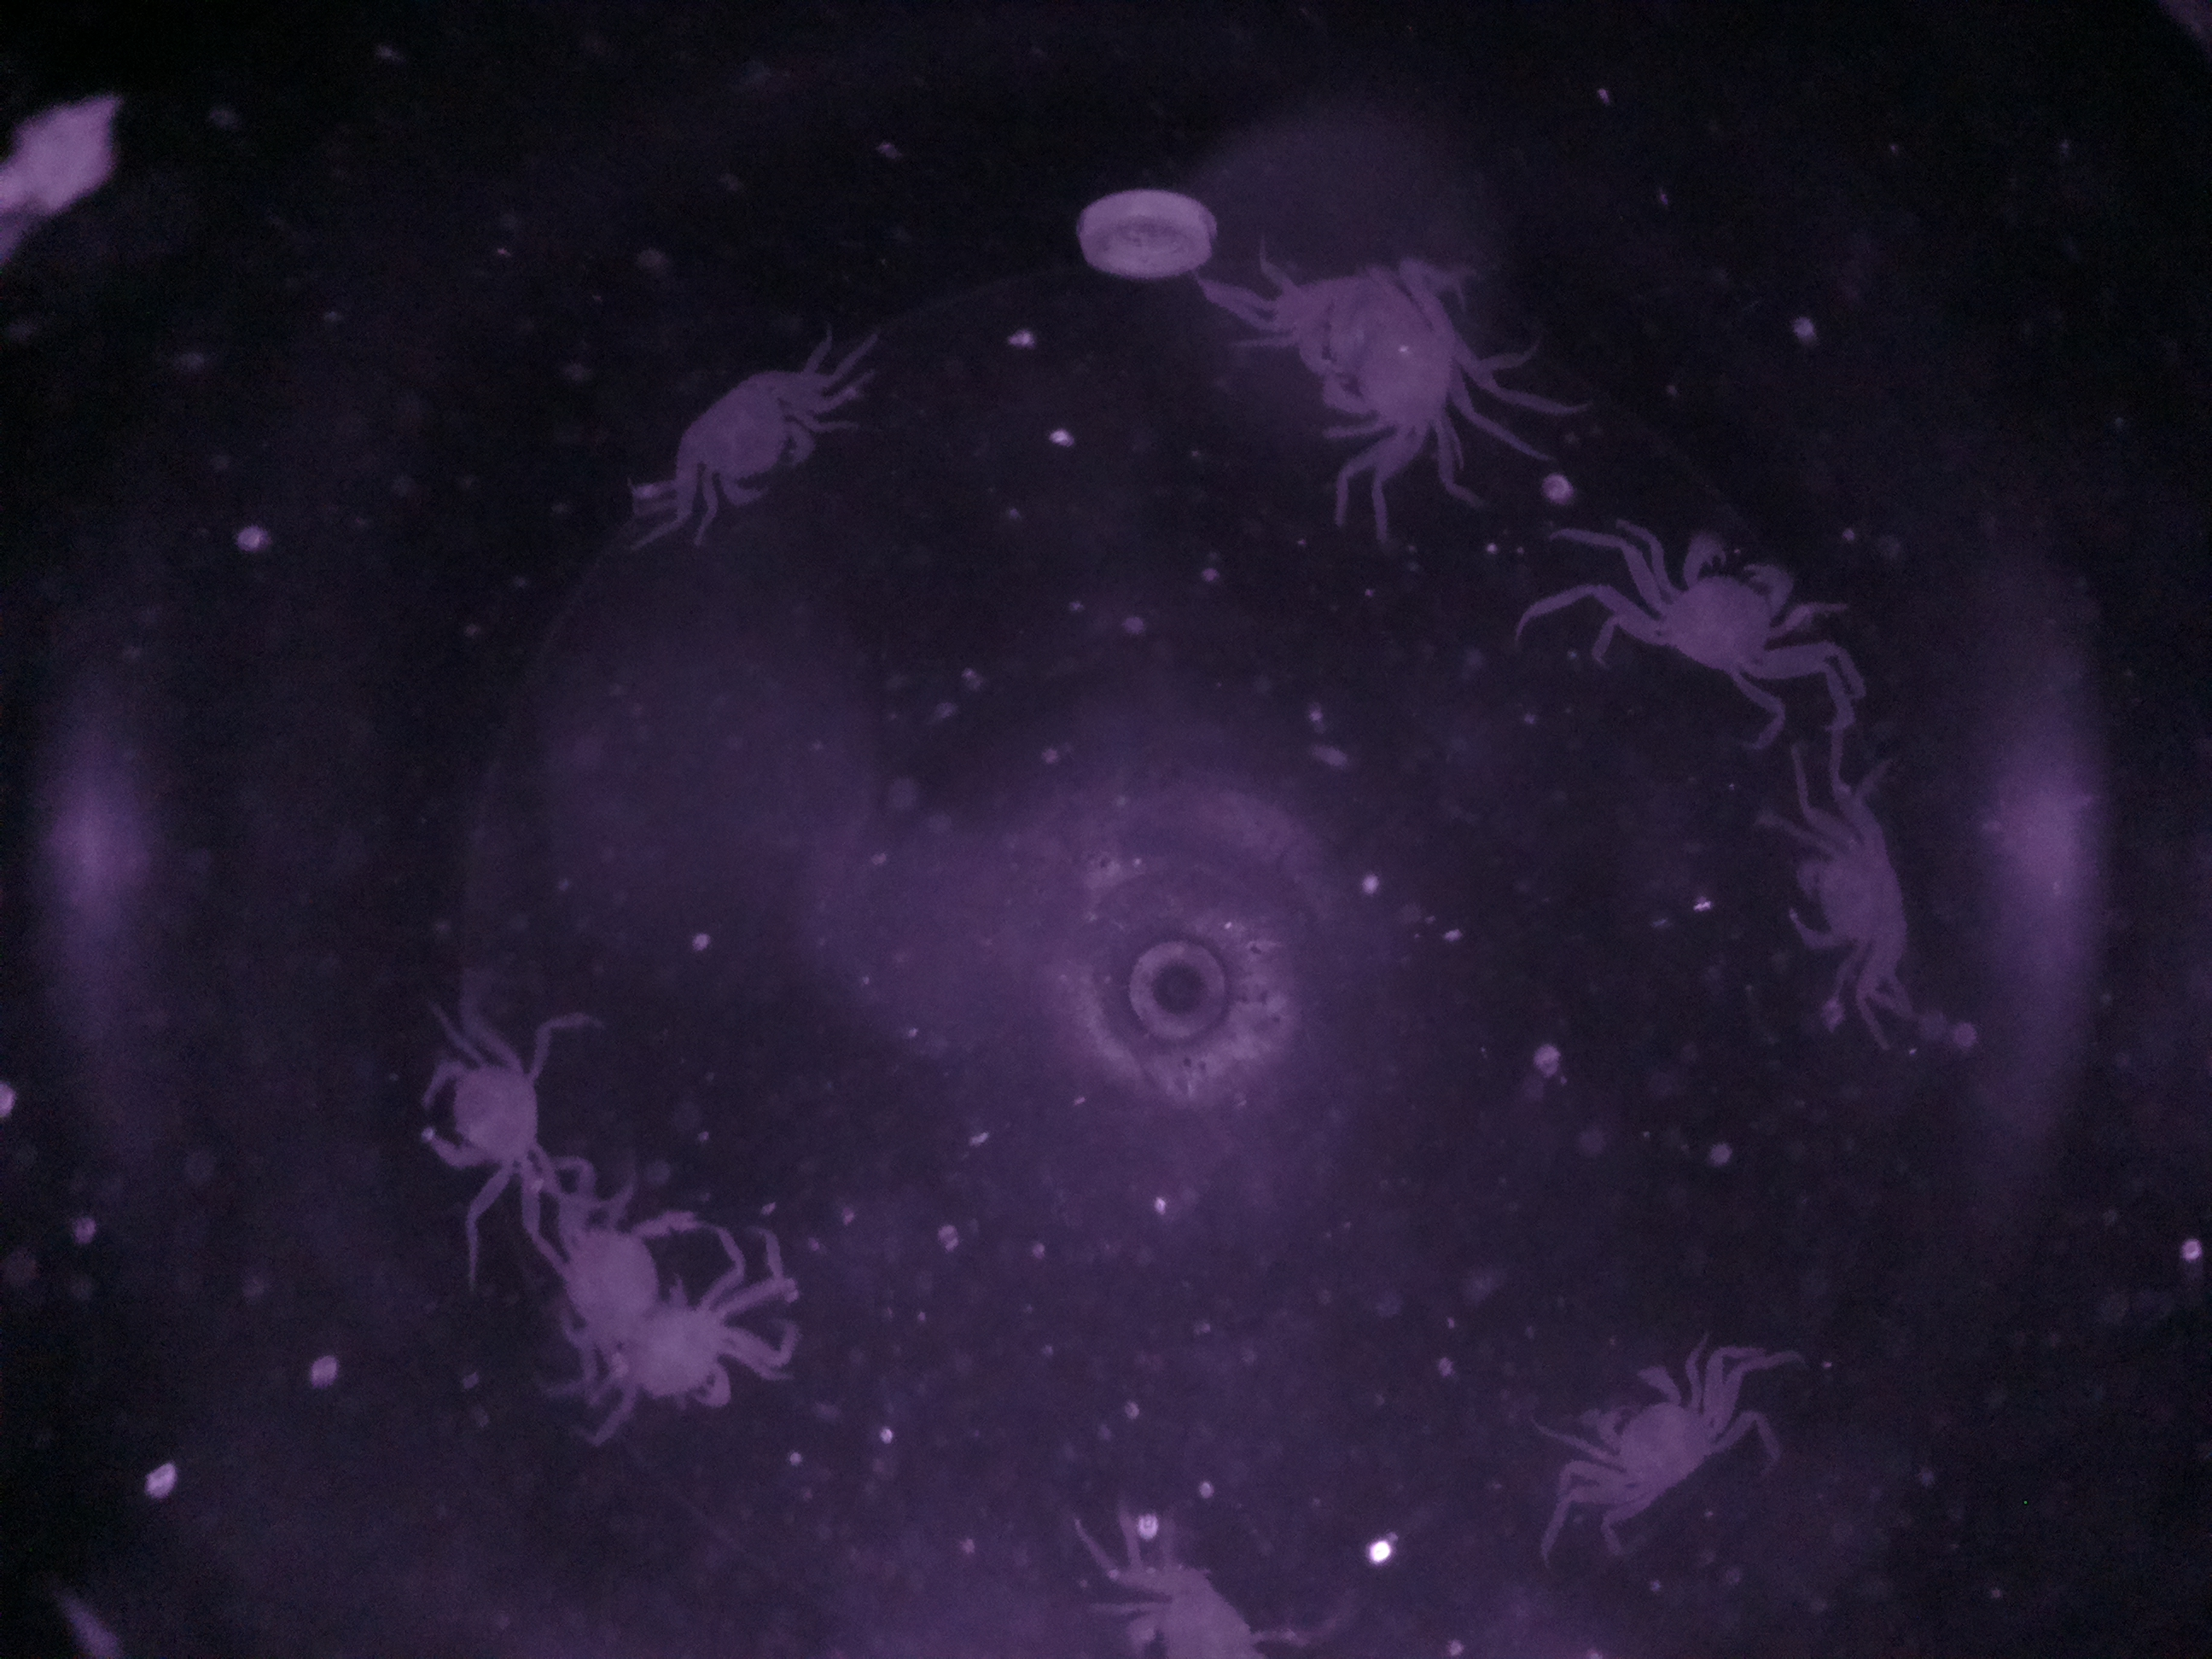Crab: (1618, 519, 1831, 697), (1564, 1331, 1743, 1532), (397, 1007, 557, 1202), (1756, 817, 1932, 979), (678, 352, 826, 537)
